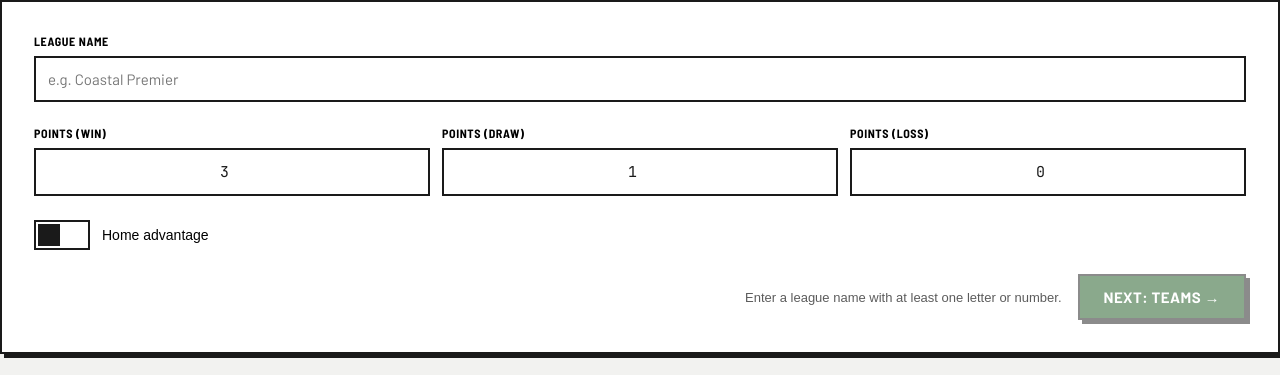
Test case: DetailsStep › Next needs a league name › explains next to the disabled Next why it is off, and hides the hint for a valid name
The width and height of the screenshot is (1280, 375).
Expected: the text "Enter a league name with at least one letter or number." is shown, [745,290,1062,304]
In the field labelled "League name": [640, 79] box [34,56,1246,102], type "!!!"
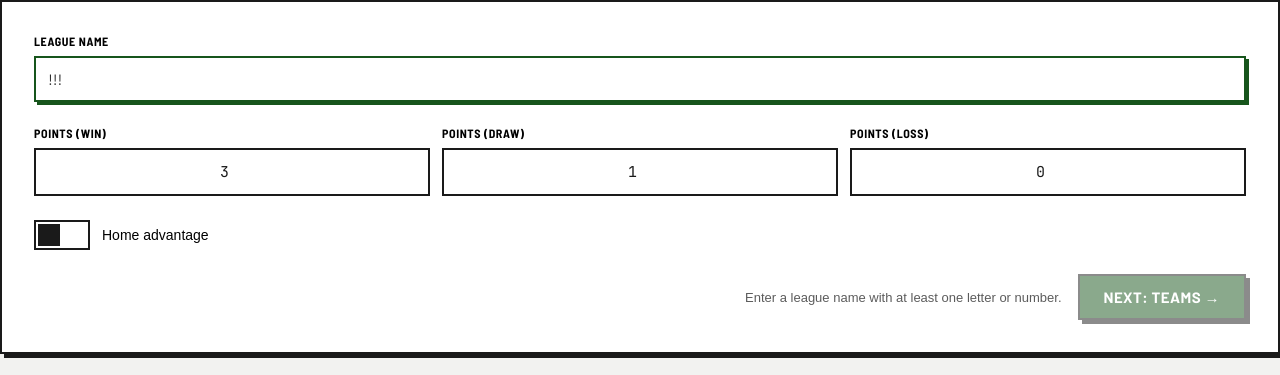
Expected: the text "Enter a league name with at least one letter or number." is shown, [745,290,1062,304]
In the field labelled "League name": [640, 79] box [34,56,1246,102], type "A"
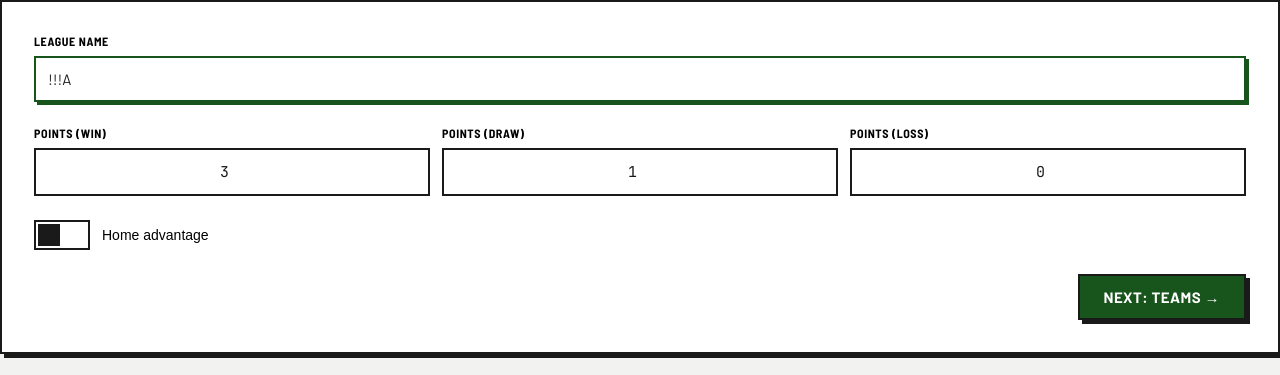
Expected: the text "Enter a league name with at least one letter or number." is gone
